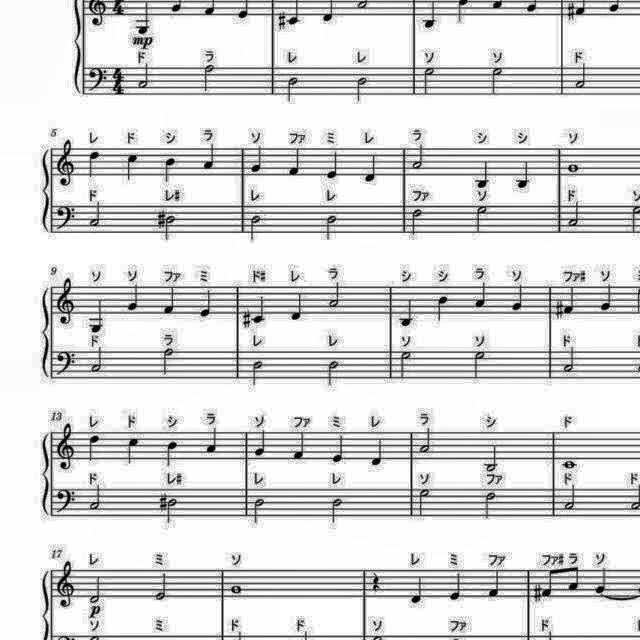Bass-clef: (86, 61, 110, 95), (51, 204, 77, 234), (53, 350, 79, 378), (53, 486, 77, 516)
Diez: (240, 309, 252, 331), (532, 582, 544, 604), (158, 491, 168, 514), (554, 300, 564, 322), (157, 206, 166, 230)
Eighth-note: (566, 564, 582, 594), (542, 568, 556, 600)
Full-note: (564, 160, 584, 176), (560, 458, 580, 472), (228, 582, 242, 596)
Half-note: (320, 212, 340, 244), (408, 206, 428, 238), (152, 570, 172, 602), (482, 490, 500, 524), (482, 444, 502, 474), (562, 483, 582, 512), (354, 74, 372, 106), (488, 64, 506, 96), (474, 204, 492, 236), (89, 574, 107, 606), (472, 348, 488, 382), (325, 359, 343, 389), (328, 497, 346, 527), (420, 65, 436, 98), (200, 62, 216, 94), (284, 74, 300, 106), (248, 211, 264, 243), (88, 344, 104, 376), (418, 488, 434, 520), (251, 498, 269, 526), (160, 347, 176, 377), (250, 359, 266, 389), (562, 345, 578, 375), (418, 425, 434, 455), (409, 142, 426, 170), (572, 61, 588, 90), (136, 62, 152, 90), (88, 200, 104, 228), (566, 200, 582, 228), (88, 484, 104, 512), (326, 280, 342, 308), (400, 348, 412, 384), (166, 498, 180, 528), (164, 214, 176, 243)
Quarter-note: (86, 298, 110, 338), (472, 155, 492, 191), (135, 1, 155, 36), (286, 290, 306, 324), (328, 432, 348, 466), (512, 159, 534, 189), (284, 146, 304, 178), (250, 428, 270, 460), (485, 566, 503, 600), (160, 157, 180, 187), (124, 283, 144, 313), (202, 426, 222, 456), (122, 152, 140, 184), (323, 148, 341, 180), (251, 294, 269, 326), (510, 280, 526, 316), (247, 143, 266, 173), (369, 436, 386, 469), (199, 144, 219, 172), (86, 148, 102, 182), (162, 284, 178, 318), (198, 284, 214, 318), (290, 428, 306, 462), (420, 0, 438, 30), (364, 153, 380, 185), (164, 438, 180, 470), (448, 570, 464, 602), (593, 566, 611, 594), (398, 298, 414, 328), (434, 294, 450, 324), (86, 434, 102, 464), (125, 437, 141, 467), (473, 282, 489, 310), (563, 286, 577, 318), (598, 284, 614, 312), (409, 574, 423, 606)
Quarter-rest: (371, 570, 385, 594)
Treble-clef: (56, 276, 80, 330), (53, 560, 77, 612), (56, 421, 76, 475), (56, 138, 76, 188)
